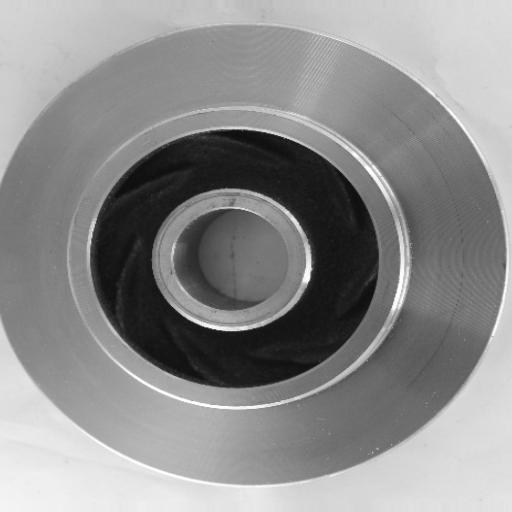polished_casting: (0, 22, 506, 487)
